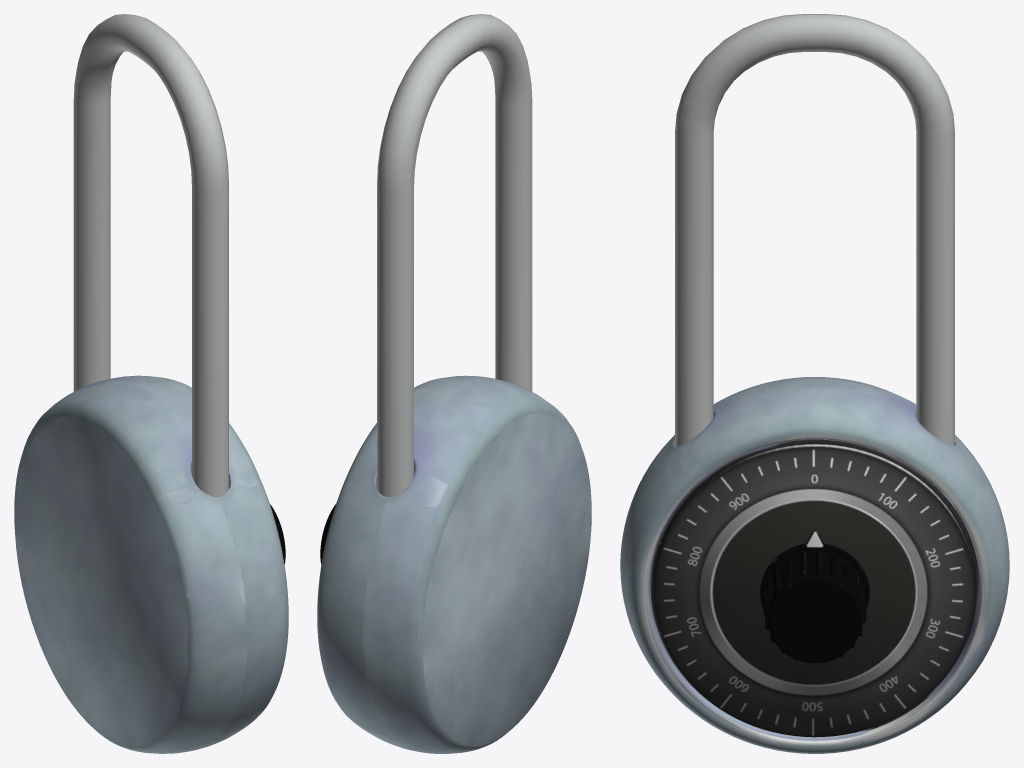
The model's file is lock.glb.
3 renders of one model, left to right at view 1: azimuth 30°, elevation 25°; view 2: azimuth 150°, elevation 25°; view 3: azimuth 270°, elevation 25°, orthographic. The views are drawn at different scales.
Parts seen in each view (by area): view 1: 02_base_0, 01_base_0; view 2: 02_base_0, 01_base_0; view 3: 02_base_0, 01_base_0, 03_base_0.
Boxes of the visible parts, box(x1,y1,x2,y2) form: 02_base_0: box(14, 375, 288, 753); 01_base_0: box(73, 14, 228, 496); 02_base_0: box(317, 375, 591, 753); 01_base_0: box(377, 14, 532, 496); 02_base_0: box(620, 377, 1009, 753); 01_base_0: box(675, 14, 954, 445); 03_base_0: box(760, 530, 869, 663).
Size of the model in its own units: 0.0681 by 0.2805 by 0.1363.
Materials: 1 (1 with a texture image).
